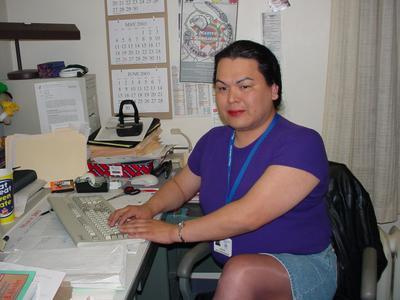person: (109, 42, 337, 300)
